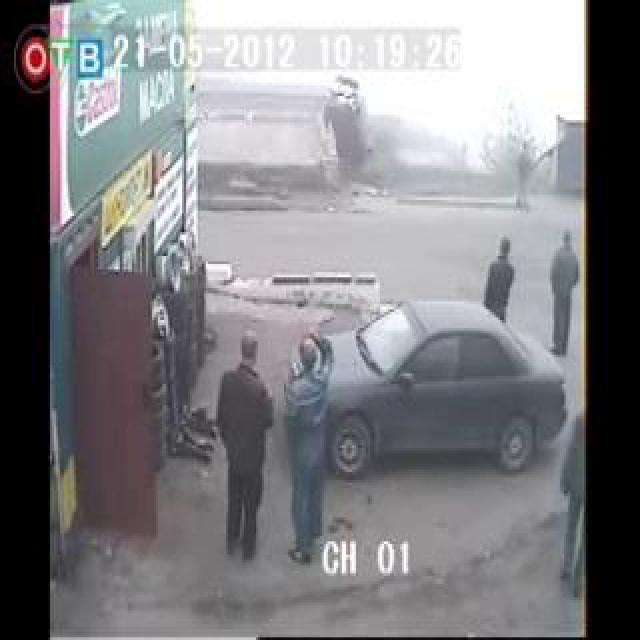road accidents: (268, 0, 612, 456)
